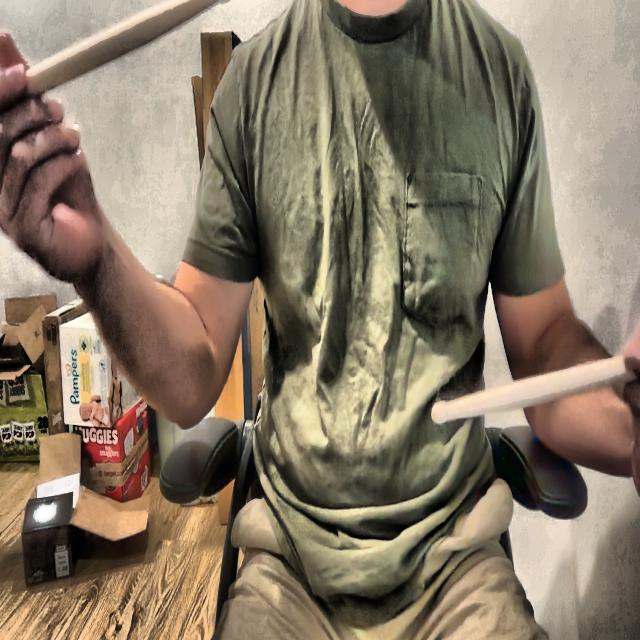Drumstick-Heads: (432, 398, 448, 426)
